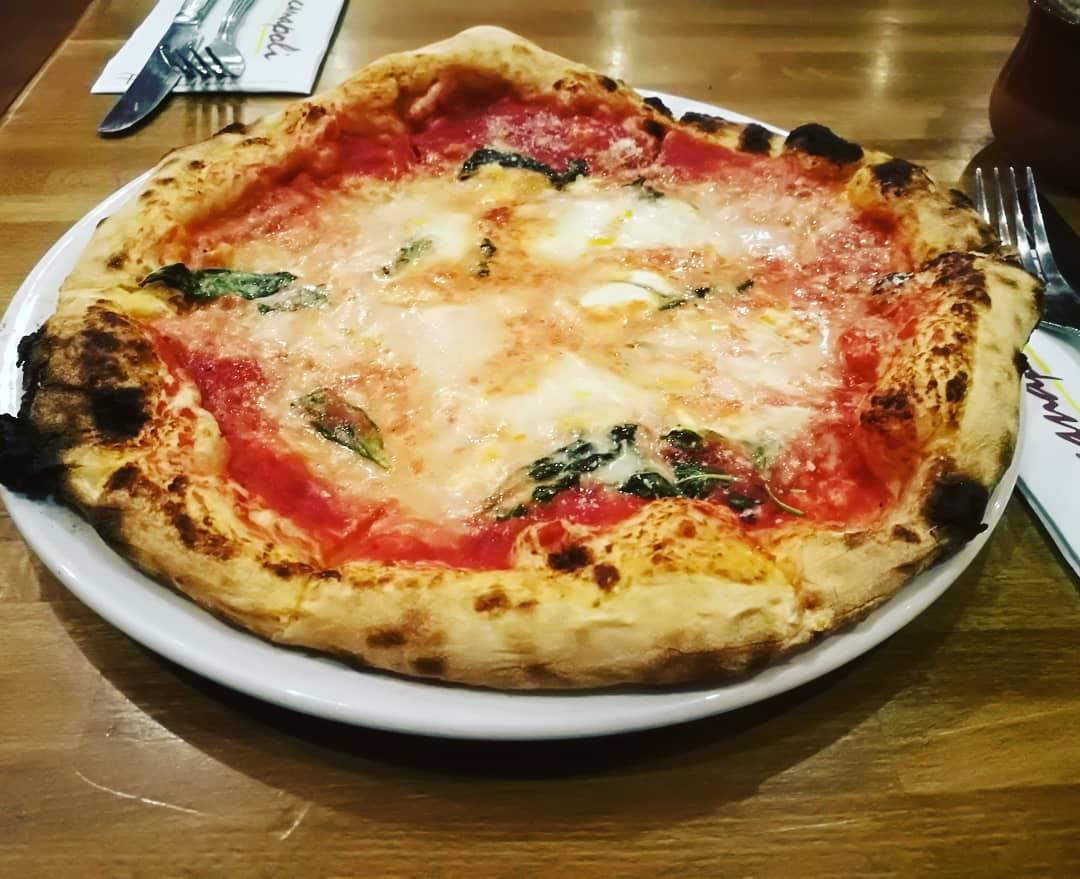Basil: (480, 425, 801, 526), (145, 253, 328, 315), (286, 385, 389, 467), (459, 144, 589, 194)
Pizza: (25, 35, 1041, 698)
